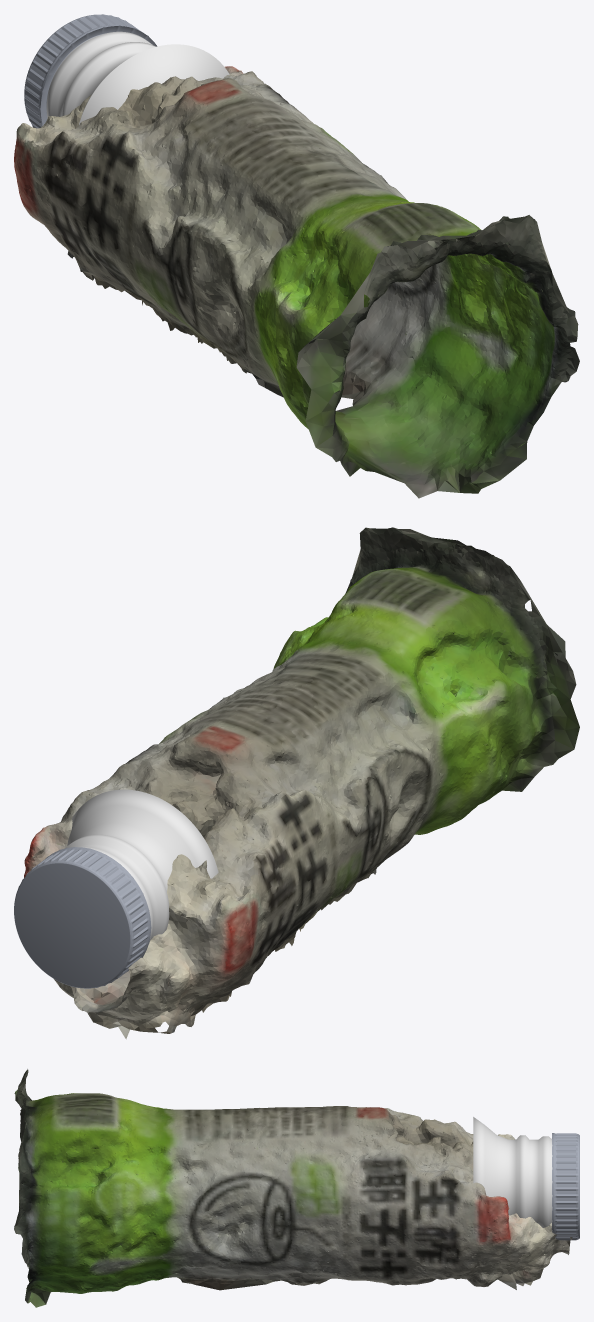
Rendered from bottle_no_cap_clean_cap_v25.fbx.
3 renders of one model, top to bottom at view 1: azimuth 30°, elevation 25°; view 2: azimuth 150°, elevation 25°; view 3: azimuth 270°, elevation 25°, orthographic. The views are drawn at different scales.
Parts seen in each view (by area): view 1: DamagedBottleB, ReferenceNeckProxyB, BottleCapC; view 2: DamagedBottleB, BottleCapC, ReferenceNeckProxyB; view 3: DamagedBottleB, ReferenceNeckProxyB, BottleCapC.
Part boxes in pixels (x1=…): DamagedBottleB: x1=14, y1=66, x2=579, y2=498; ReferenceNeckProxyB: x1=46, y1=31, x2=229, y2=124; BottleCapC: x1=24, y1=14, x2=157, y2=128; DamagedBottleB: x1=24, y1=527, x2=579, y2=1039; BottleCapC: x1=14, y1=847, x2=151, y2=988; ReferenceNeckProxyB: x1=65, y1=789, x2=218, y2=942; DamagedBottleB: x1=14, y1=1069, x2=572, y2=1307; ReferenceNeckProxyB: x1=473, y1=1117, x2=552, y2=1227; BottleCapC: x1=552, y1=1133, x2=579, y2=1240.
Size of the model in its own units: 49.85 by 49.04 by 121.
3 materials, 1 textured.
